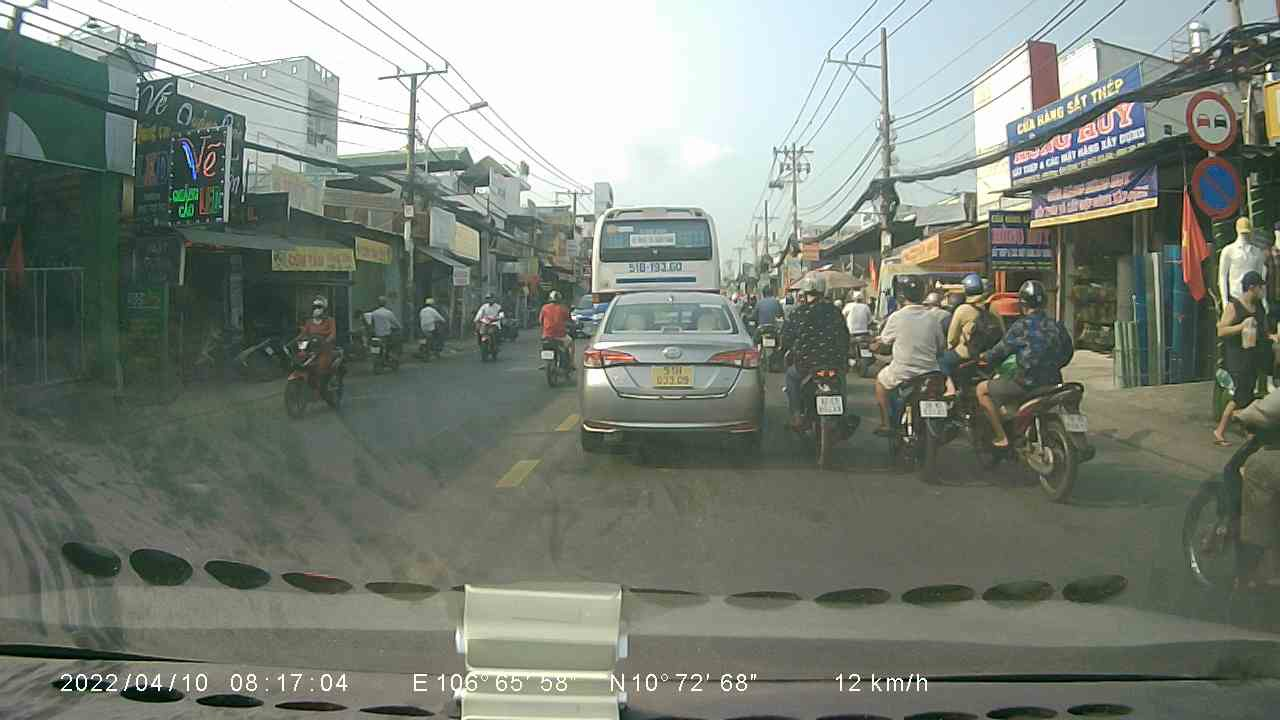Bien khac: (1183, 89, 1240, 151)
Cam do xe: (1184, 155, 1249, 220)
